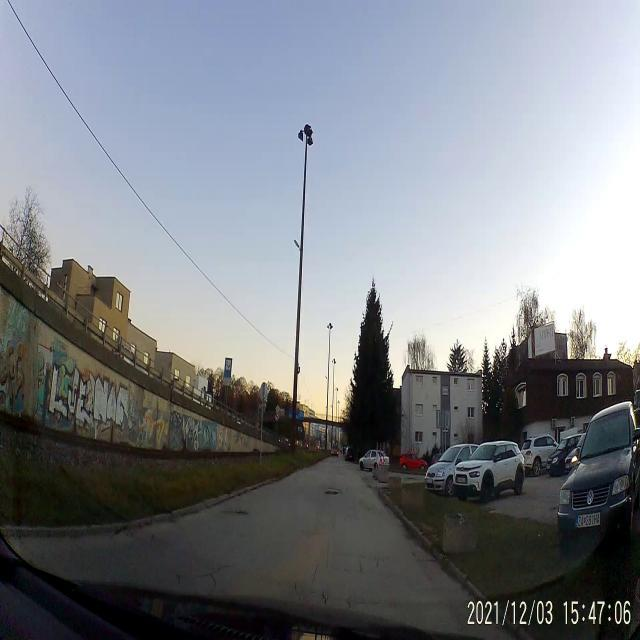Pothole: (224, 508, 250, 520), (322, 488, 340, 500)
